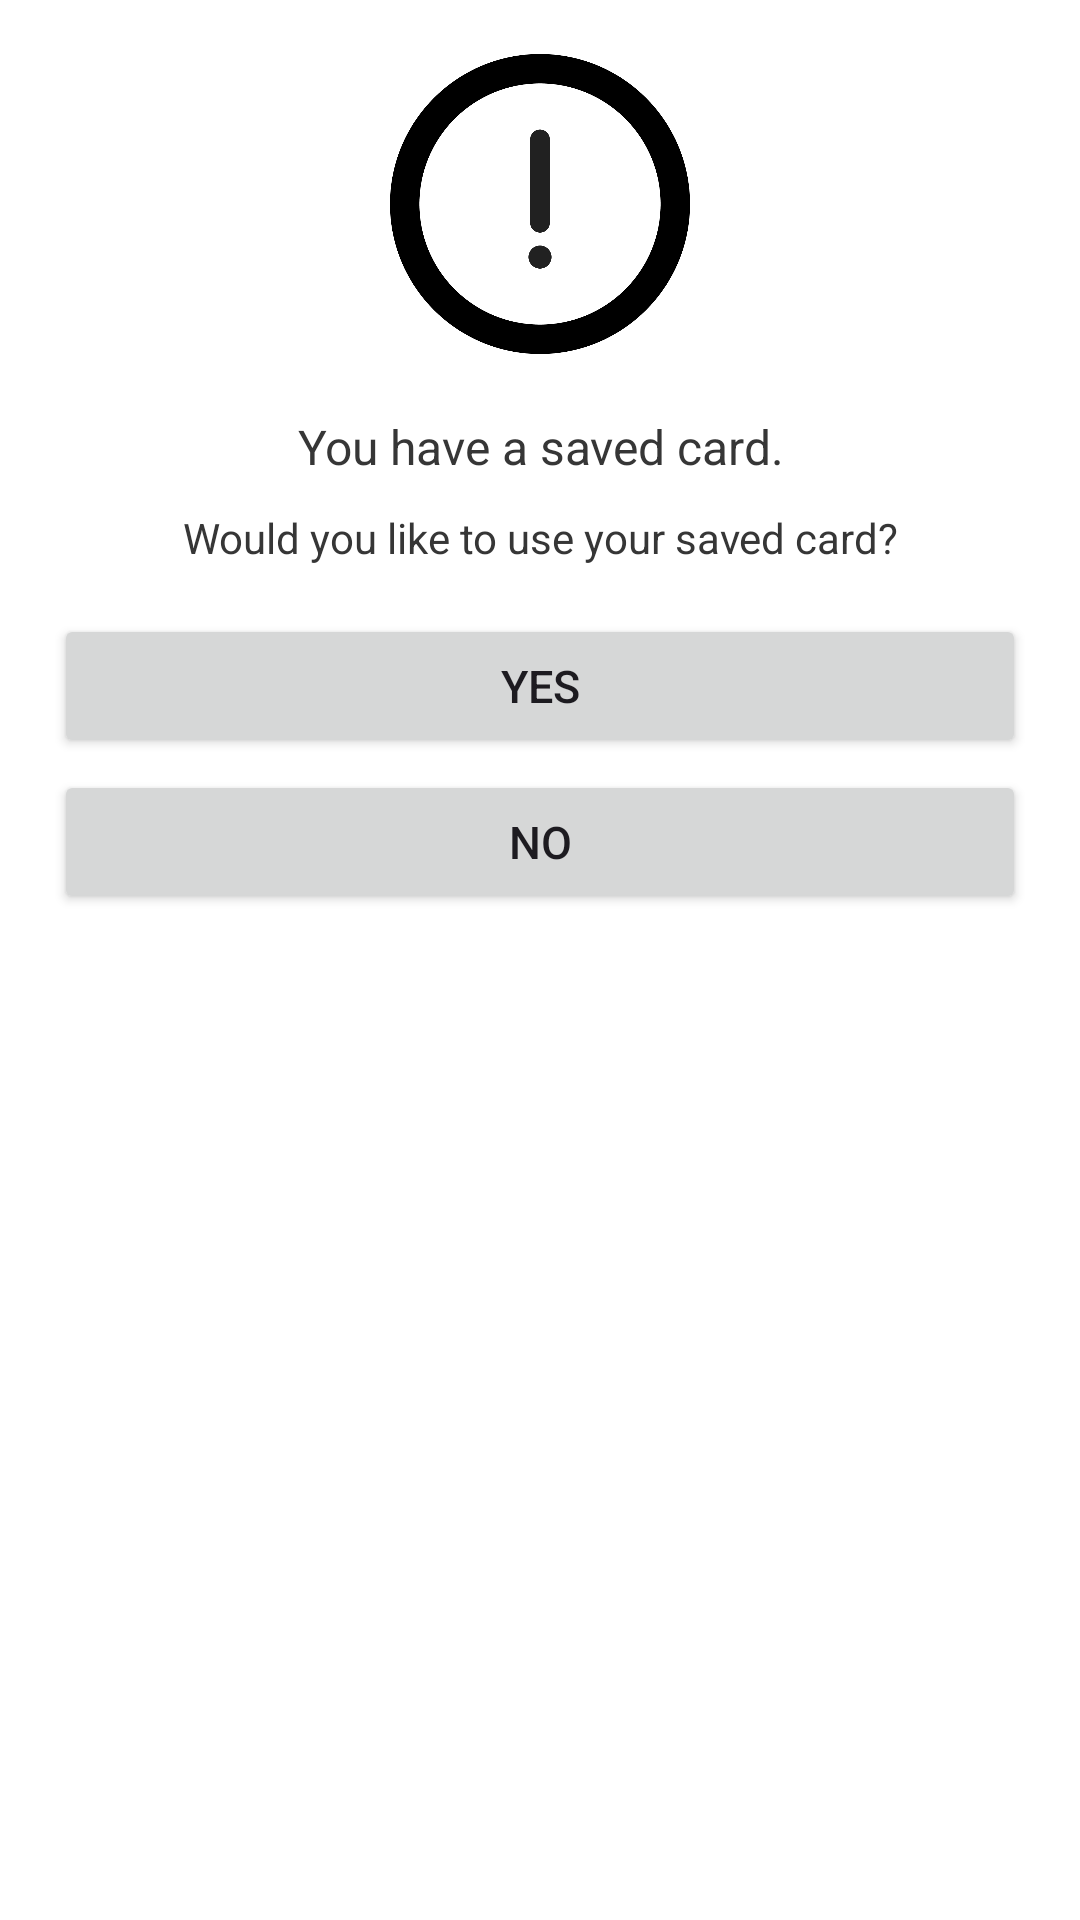

Where to tap for icons on this 1080×1920 app screen, as (x=x, y=y):
warning: (x=540, y=204)
